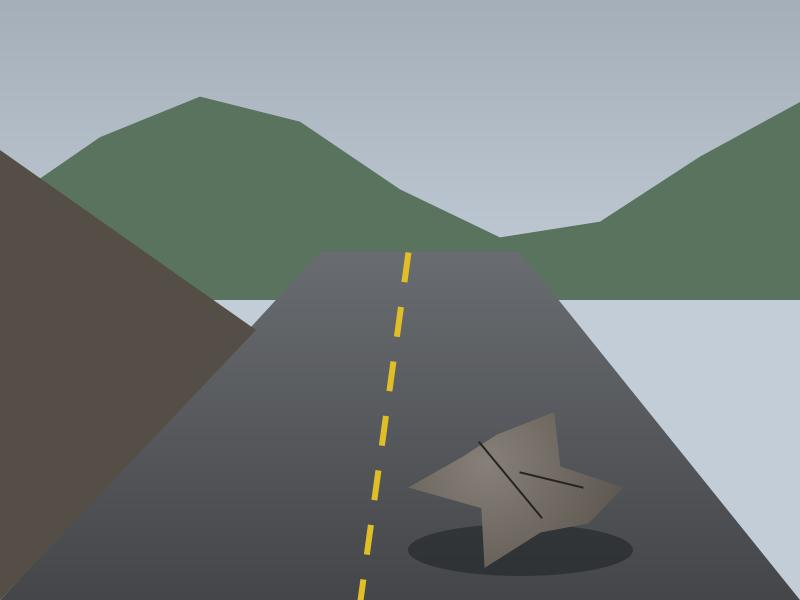ROAD_OBSTACLE: (418, 413, 623, 562)
